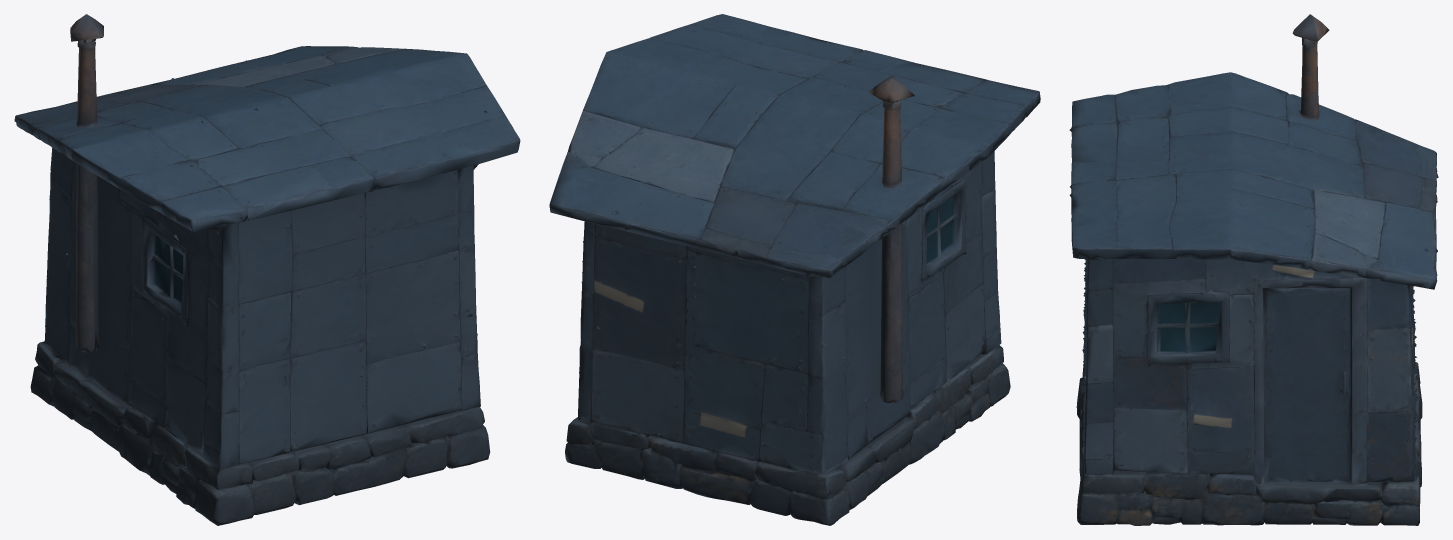
Rendered from hut.glb.
The picture shows the model from 3 angles, left to right: view 1: azimuth 30°, elevation 25°; view 2: azimuth 150°, elevation 25°; view 3: azimuth 270°, elevation 25°; orthographic projection. The views are drawn at different scales.
Parts seen in each view (by area): view 1: tripo_node_7c2af231-19bc-4225-a9e7-25ac16eabc4f; view 2: tripo_node_7c2af231-19bc-4225-a9e7-25ac16eabc4f; view 3: tripo_node_7c2af231-19bc-4225-a9e7-25ac16eabc4f.
Boxes of the visible parts, <box> form: tripo_node_7c2af231-19bc-4225-a9e7-25ac16eabc4f: <box>14,14,520,525</box>; tripo_node_7c2af231-19bc-4225-a9e7-25ac16eabc4f: <box>549,14,1040,525</box>; tripo_node_7c2af231-19bc-4225-a9e7-25ac16eabc4f: <box>1069,14,1438,525</box>.
Size of the model in its own units: 1.96 by 2 by 1.72.
Materials: 1 (1 with a texture image).
